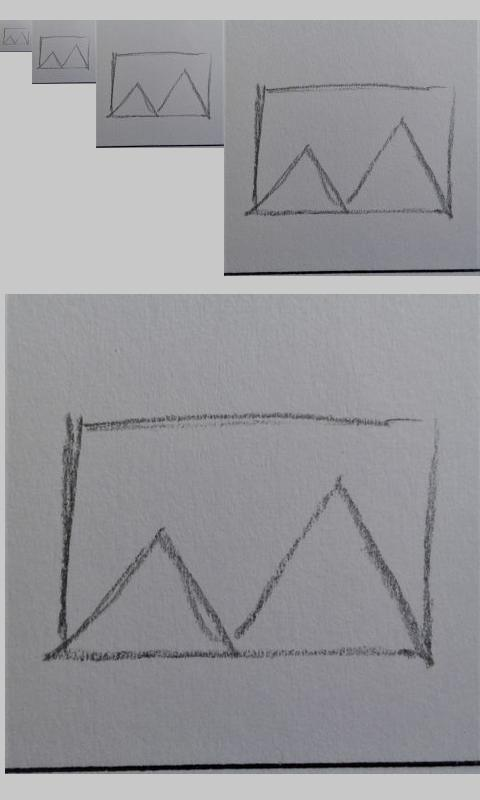image_view: (59, 412, 442, 667), (251, 80, 458, 219), (109, 51, 213, 119), (38, 36, 90, 70), (2, 27, 30, 47)
